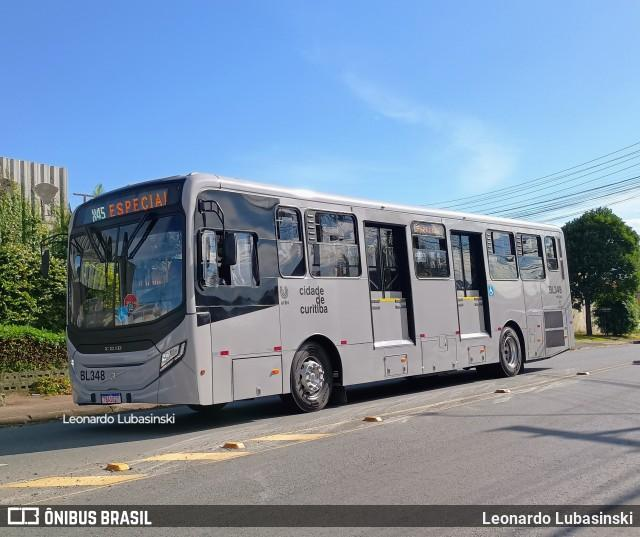ESPECIAL: (106, 188, 171, 219)
